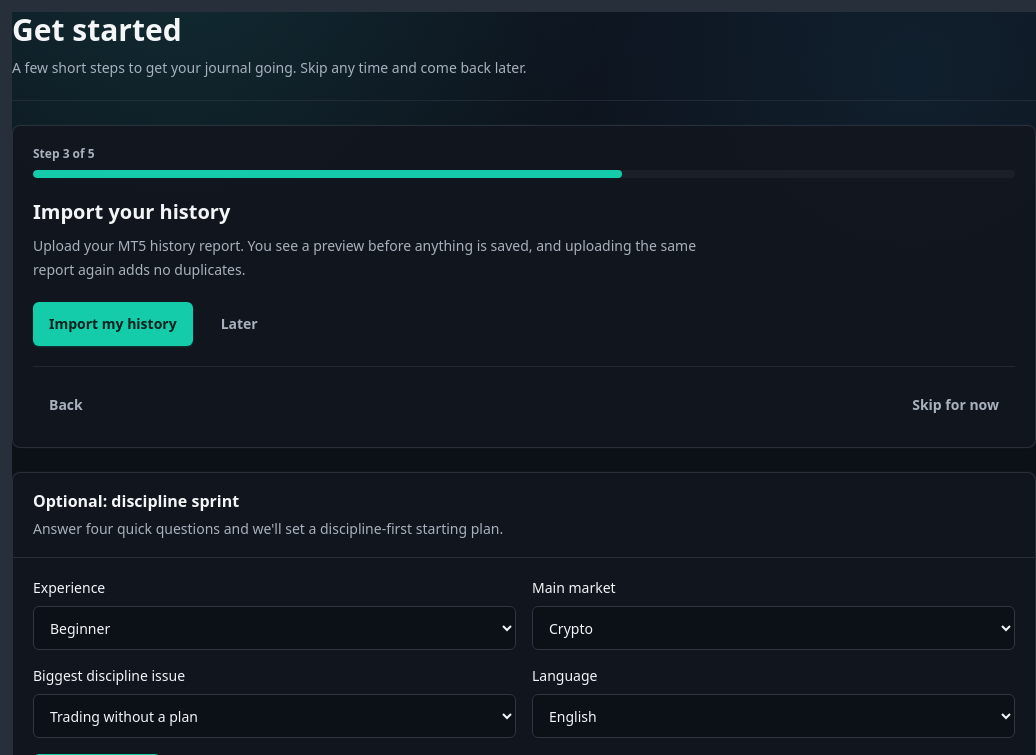
Test: the history step › moves on with 'Later'
Click the button "Later": (239, 324) [205,302,274,346]
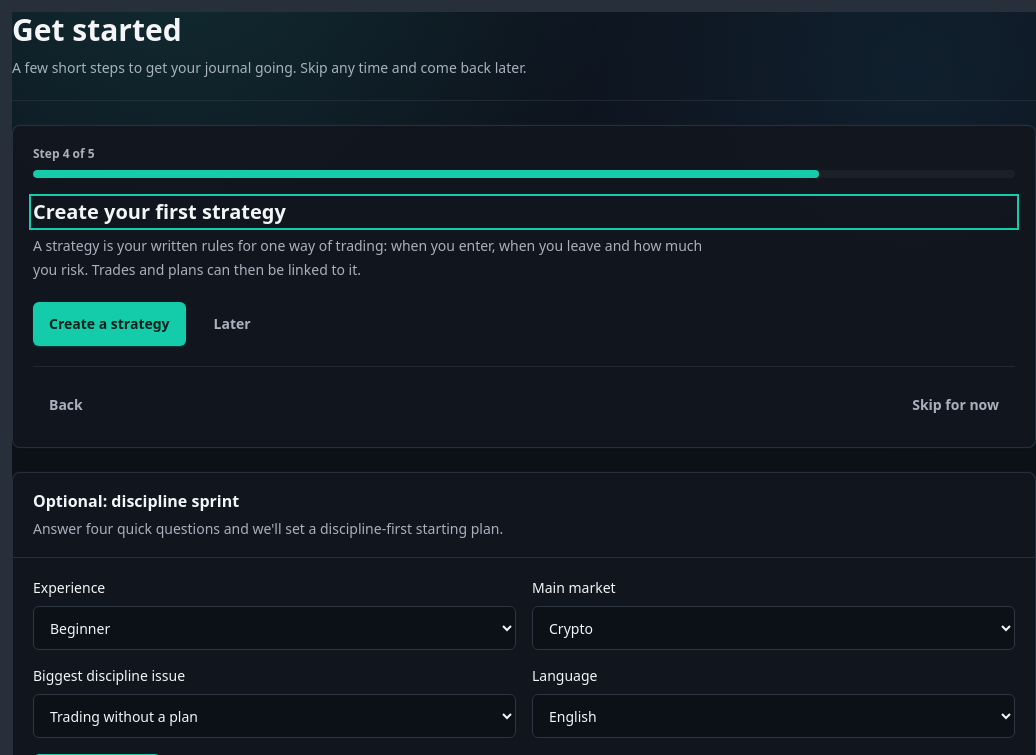
Now the heading "Create your first strategy" is shown, box [33,198,286,225]
